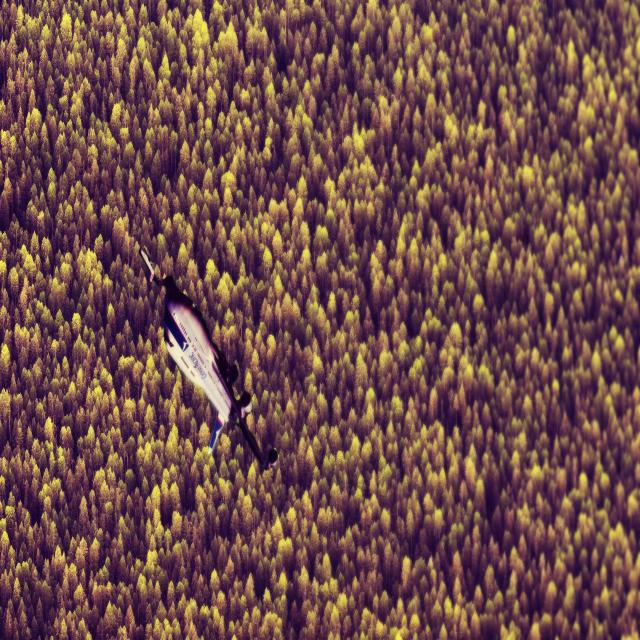airplane: (138, 244, 278, 470)
